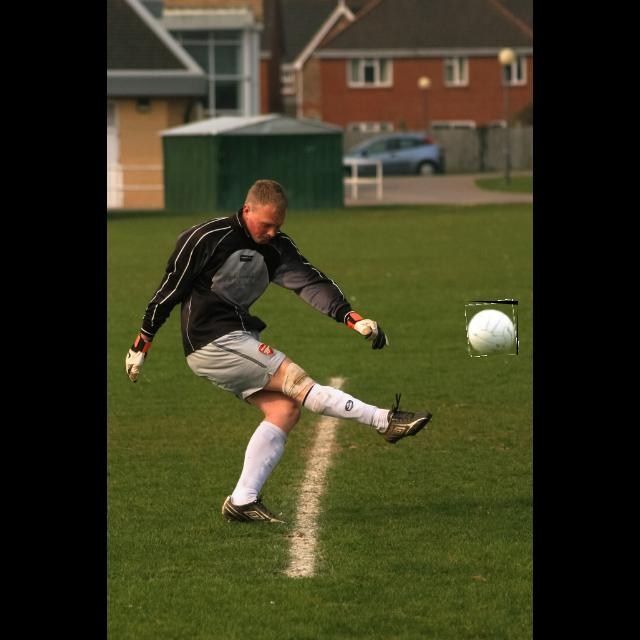Football: (466, 301, 518, 355)
